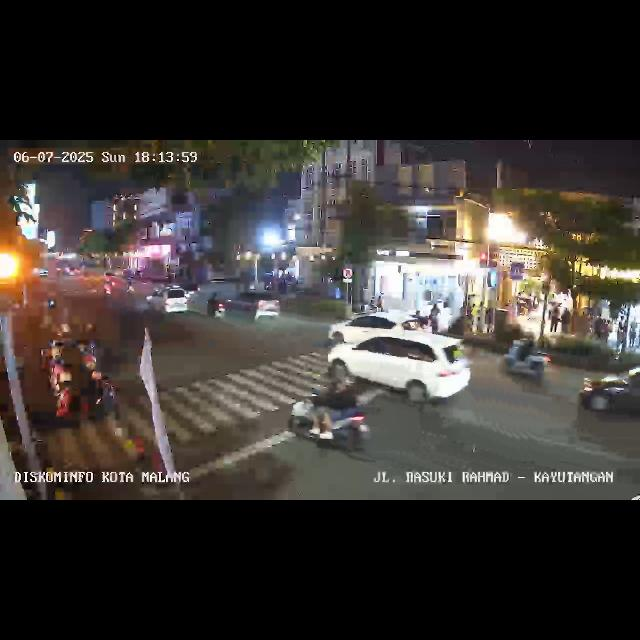car: (330, 332, 470, 408), (576, 362, 640, 426), (329, 312, 419, 346), (226, 290, 282, 322), (144, 284, 192, 320), (34, 266, 50, 280)
motorcycle: (288, 371, 376, 462), (502, 334, 552, 386), (207, 292, 227, 322), (101, 276, 112, 300), (125, 278, 135, 294)
person: (58, 306, 72, 339), (615, 316, 625, 348), (429, 304, 439, 334), (550, 304, 560, 334), (560, 304, 570, 334), (627, 322, 637, 351), (374, 292, 384, 312)
